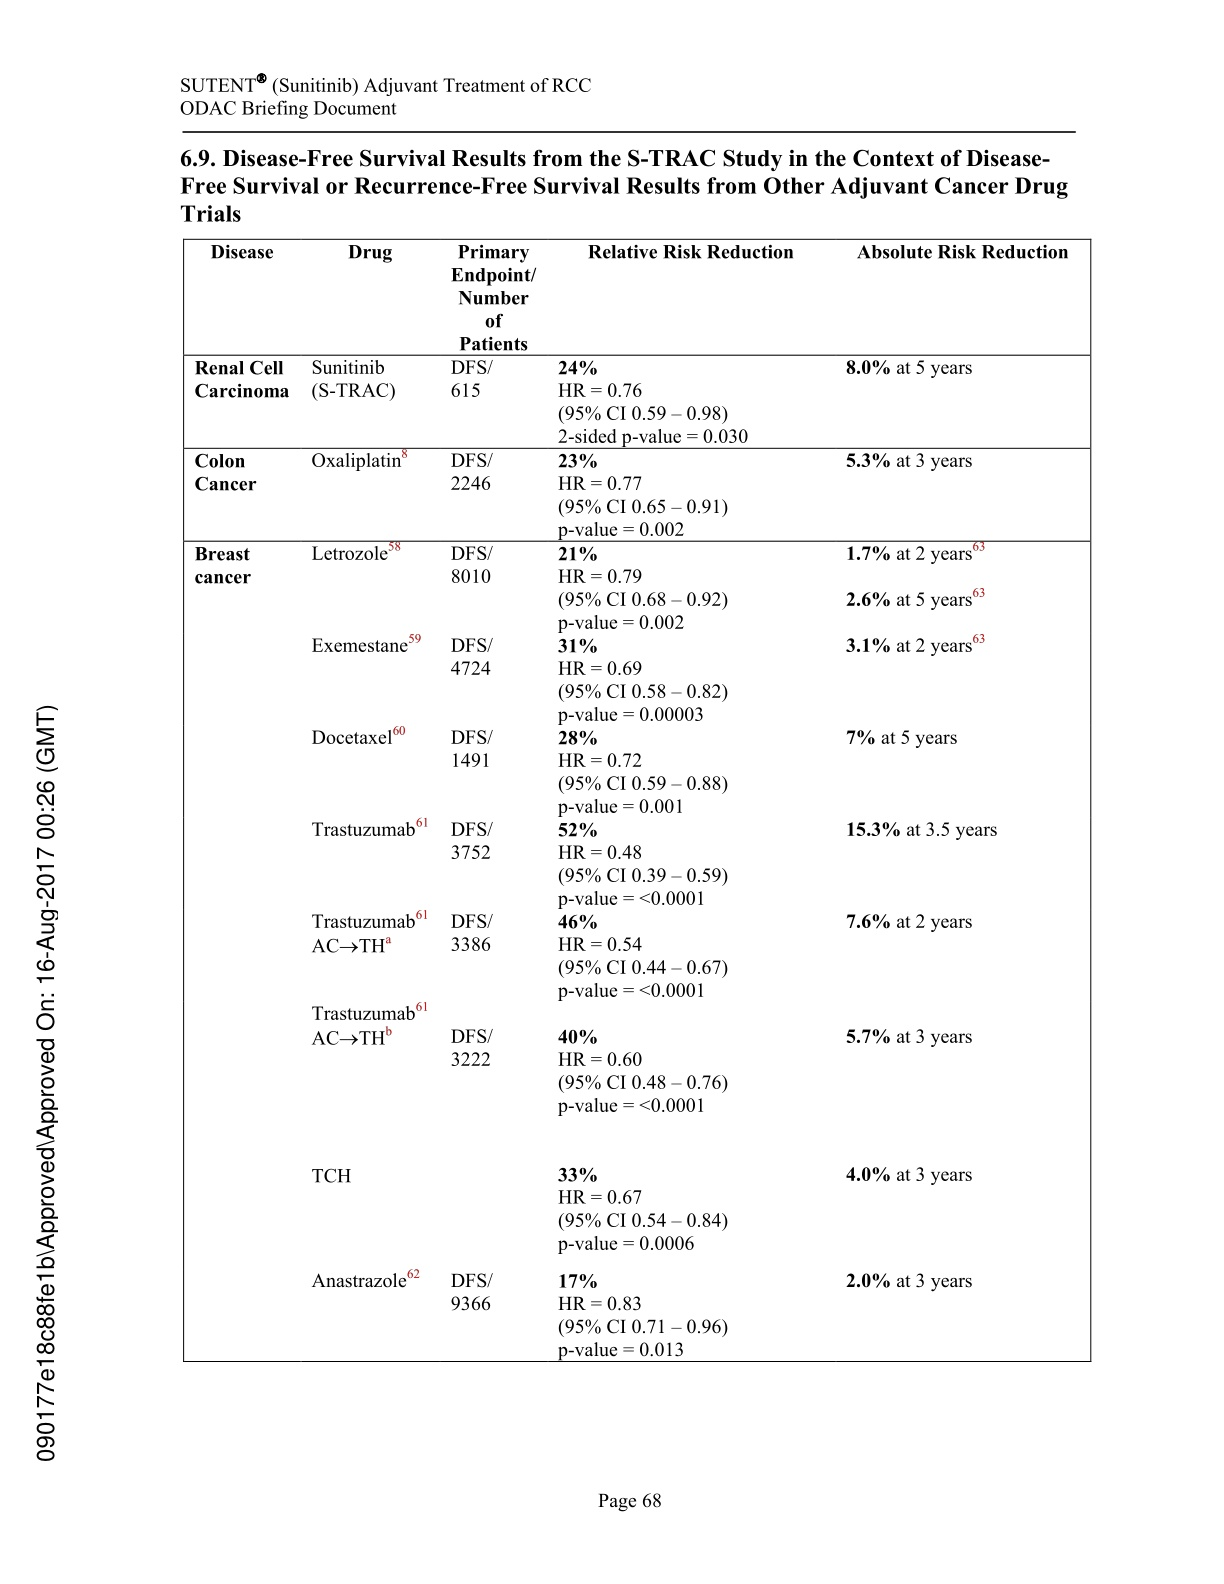partial_lined_merged_cells: (183, 237, 1093, 1364)
